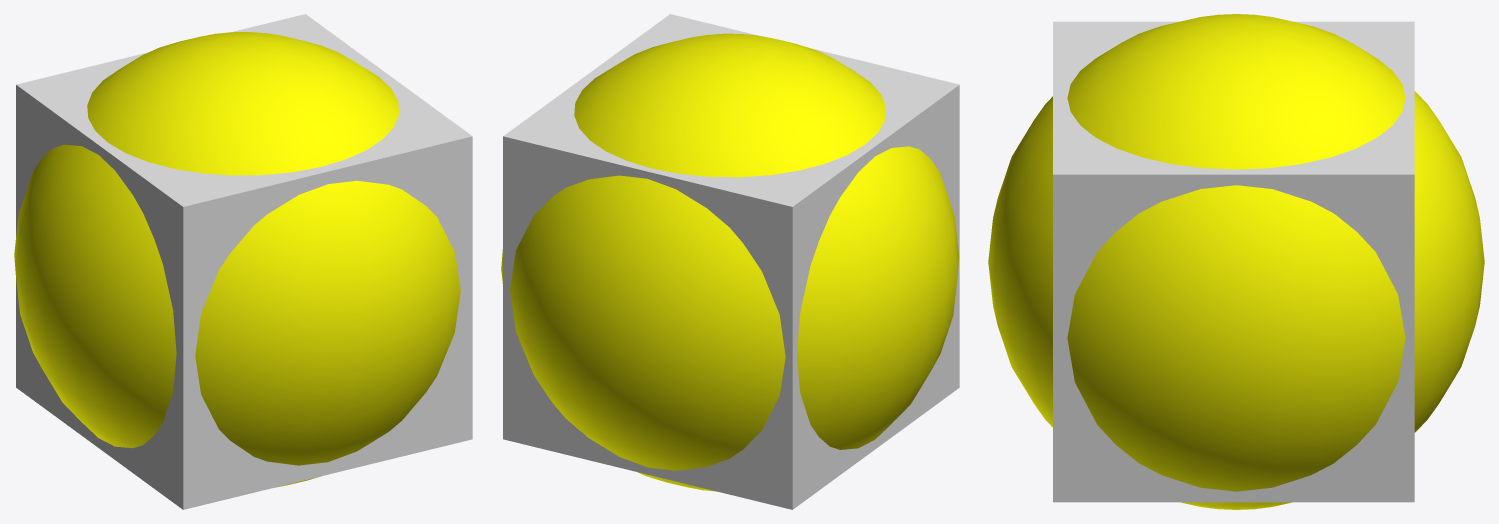
The model's file is GoldBall.gltf.
3 renders of one model, left to right at view 1: azimuth 30°, elevation 25°; view 2: azimuth 150°, elevation 25°; view 3: azimuth 270°, elevation 25°, orthographic. The views are drawn at different scales.
Parts seen in each view (by area): view 1: 球, COL; view 2: 球, COL; view 3: 球, COL.
Boxes of the visible parts, left/top/right/bottom form: 球: left=14, top=32, right=460, bottom=487; COL: left=16, top=14, right=472, bottom=509; 球: left=501, top=33, right=959, bottom=491; COL: left=503, top=14, right=959, bottom=509; 球: left=988, top=14, right=1484, bottom=509; COL: left=1053, top=21, right=1414, bottom=502.
Bounding box in the file's own units: 0.9142 × 0.9142 × 0.9142.
